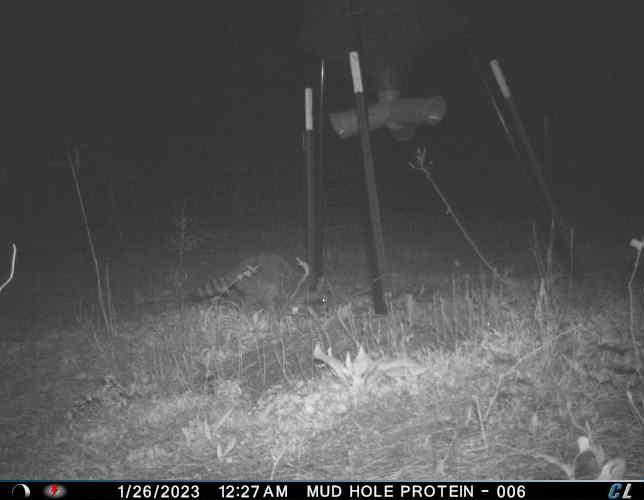Raccoon: (193, 248, 330, 316)
